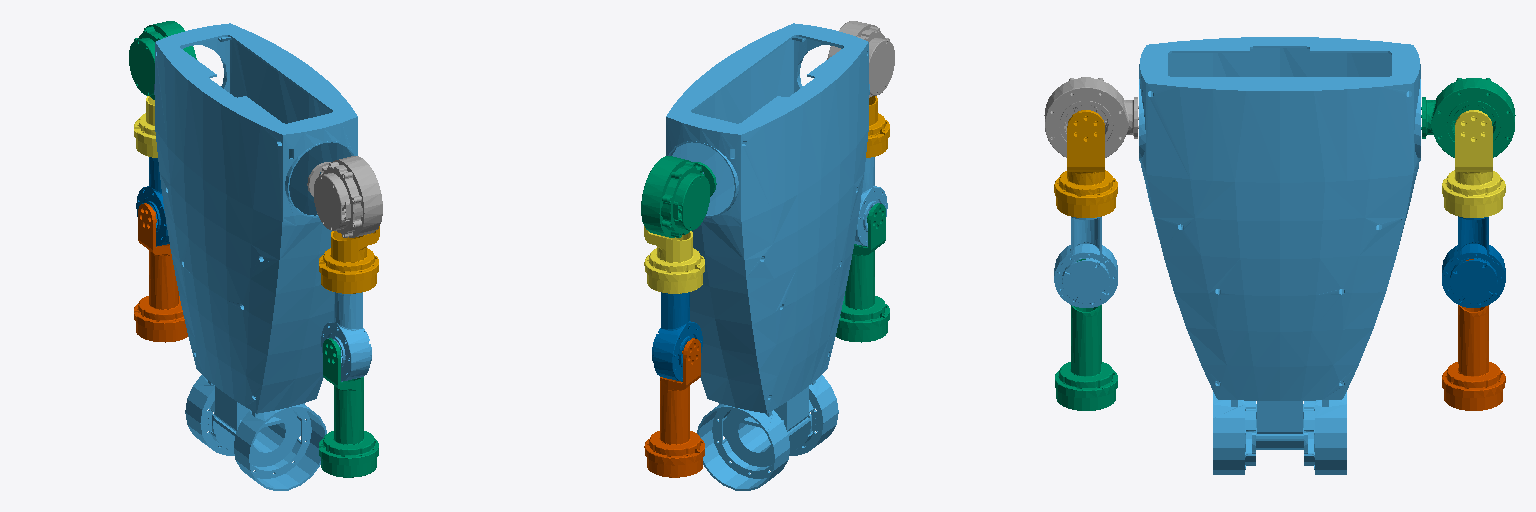
robot.urdf — robot:
<?xml version='1.0' encoding='utf-8'?>
<robot name="robot">
  <link name="base">
    <inertial>
      <origin rpy="0.0 0.0 0.0" xyz="0.0 0.0 0.0" />
      <mass value="0.001" />
      <inertia ixx="0.0001" ixy="0.0" ixz="0.0" iyy="0.0001" iyz="0.0" izz="0.0001" />
      </inertial>
    </link>
  <joint name="floating_base" type="fixed">
    <origin rpy="0 0 0" xyz="0 0 0.0" />
    <parent link="base" />
    <child link="trunk" />
    </joint>
  <link name="trunk">
    <inertial>
      <origin rpy="0.0 0.0 0.0" xyz="-0.00051930492 0.00030343937 0.21140495" />
      <mass value="13.05315" />
      <inertia ixx="0.56635021" ixy="-5.2717245e-05" ixz="-0.00020117771" iyy="0.462714" iyz="0.00062003391" izz="0.13193241" />
      </inertial>
    <visual>
      <origin rpy="0.0 0.0 0.0" xyz="0.0 0.0 0.0" />
      <geometry>
        <mesh filename="meshes/trunk.stl" scale="1e-3 1e-3 1e-3" />
        </geometry>
      </visual>
    <collision>
      <origin rpy="0.0 0.0 0.0" xyz="0.0 0.0 0.0" />
      <geometry>
        <mesh filename="meshes/trunk.stl" scale="1e-3 1e-3 1e-3" />
        </geometry>
      </collision>
    </link>
  <joint name="L_shoulder_y" type="revolute">
    <origin rpy="0 0 0" xyz="0 0.255 0.45" />
    <parent link="trunk" />
    <child link="L_clav" />
    <axis xyz="0.0 1.0 0.0" />
    <limit effort="60" lower="-3.1416" upper="3.1416" velocity="0" />
    <dynamics damping="0" friction="0" />
    </joint>
  <link name="L_clav">
    <inertial>
      <origin rpy="0.0 0.0 0.0" xyz="0.0012122056 -0.0015095858 -9.3677479e-05" />
      <mass value="1.1246895" />
      <inertia ixx="0.0017070766" ixy="-2.3820729e-06" ixz="-6.7619904e-06" iyy="0.0010595629" iyz="-3.2352008e-07" izz="0.001122517" />
      </inertial>
    <visual>
      <origin rpy="-3.1415926 0 0" xyz="0 0 0" />
      <geometry>
        <mesh filename="meshes/clav.stl" scale="1e-3 1e-3 1e-3" />
        </geometry>
      </visual>
    <collision>
      <origin rpy="-3.1415926 0 0" xyz="0 0 0" />
      <geometry>
        <mesh filename="meshes/clav.stl" scale="1e-3 1e-3 1e-3" />
        </geometry>
      </collision>
    </link>
  <joint name="L_shoulder_x" type="revolute">
    <origin rpy="0.0 0.0 0.0" xyz="0 0 0" />
    <parent link="L_clav" />
    <child link="L_scapula" />
    <axis xyz="1.0 0.0 0.0" />
    <limit effort="60" lower="0" upper="3.1416" velocity="0" />
    <dynamics damping="0" friction="0" />
    </joint>
  <link name="L_scapula">
    <inertial>
      <origin rpy="0.0 0.0 0.0" xyz="0.0038106082 -0.0001642433 -0.095219061" />
      <mass value="0.65454544" />
      <inertia ixx="0.0011234347" ixy="-4.6391796e-06" ixz="-0.00021802428" iyy="0.0011878253" iyz="-1.8375484e-06" izz="0.00058824357" />
      </inertial>
    <visual>
      <geometry>
        <mesh filename="meshes/scap.stl" scale="1e-3 1e-3 1e-3" />
        </geometry>
      </visual>
    <collision>
      <geometry>
        <mesh filename="meshes/scap.stl" scale="1e-3 1e-3 1e-3" />
        </geometry>
      </collision>
    </link>
  <joint name="L_shoulder_z" type="revolute">
    <origin rpy="0.0 0.0 0.0" xyz="0 0 0" />
    <parent link="L_scapula" />
    <child link="L_uarm" />
    <axis xyz="0.0 0.0 1.0" />
    <limit effort="17" lower="-3.14" upper="3.14" velocity="0" />
    <dynamics damping="0" friction="0" />
    </joint>
  <link name="L_uarm">
    <inertial>
      <origin rpy="0.0 0.0 0.0" xyz="-0.0039088302 0.00017072539 -0.22223086" />
      <mass value="0.58244405" />
      <inertia ixx="0.00083861306" ixy="-9.1542325e-08" ixz="0" iyy="0.00067605212" iyz="-2.7860944e-06" izz="0.0003615168" />
      </inertial>
    <visual>
      <geometry>
        <mesh filename="meshes/uarm.stl" scale="1e-3 1e-3 1e-3" />
        </geometry>
      </visual>
    <collision>
      <geometry>
        <mesh filename="meshes/uarm.stl" scale="1e-3 1e-3 1e-3" />
        </geometry>
      </collision>
    </link>
  <joint name="L_elbow_x" type="revolute">
    <origin rpy="0.0 0.0 0.0" xyz="0 0 -0.23" />
    <parent link="L_uarm" />
    <child link="L_farm" />
    <axis xyz="1.0 0 0.0" />
    <limit effort="17" lower="-1.9199" upper="1.9199" velocity="0" />
    <dynamics damping="0" friction="0" />
    </joint>
  <link name="L_farm">
    <inertial>
      <origin rpy="0.0 0.0 0.0" xyz="-0.0024082691 0.00017091831 -0.14069589" />
      <mass value="0.66002606" />
      <inertia ixx="0.0016198862" ixy="3.700055e-06" ixz="0.00013980511" iyy="0.0016516658" iyz="2.349341e-06" izz="0.00054139396" />
      </inertial>
    <visual>
      <geometry>
        <mesh filename="meshes/farm.stl" scale="1e-3 1e-3 1e-3" />
        </geometry>
      </visual>
    <collision>
      <geometry>
        <mesh filename="meshes/farm.stl" scale="1e-3 1e-3 1e-3" />
        </geometry>
      </collision>
    </link>
    <link name="left_end_effector_link"/>
    <joint name="left_end_effector_joint" type="fixed">
      <parent link="L_farm"/>
      <child link="left_end_effector_link"/>
      <!-- <origin xyz="-.05 0 -.1" rpy="0 0 0"/>  Adjust these values to position it at the tip -->
      <origin xyz="-0.05 0 -0.1" rpy="0 0 0"/>
    </joint>
  <joint name="R_shoulder_y" type="revolute">
    <origin rpy="0 0 0" xyz="0 -0.255 0.45" />
    <parent link="trunk" />
    <child link="R_clav" />
    <axis xyz="0.0 1.0 0.0" />
    <limit effort="60" lower="-3.1416" upper="3.1416" velocity="0" />
    <dynamics damping="0" friction="0" />
    </joint>
  <link name="R_clav">
    <inertial>
      <origin rpy="0.0 0.0 0.0" xyz="0.0012122056 0.0015095858 -9.3677479e-05" />
      <mass value="1.1246895" />
      <inertia ixx="0.0017070766" ixy="2.3820729e-06" ixz="-6.7619904e-06" iyy="0.0010595629" iyz="3.2352008e-07" izz="0.001122517" />
      </inertial>
    <visual>
      <origin rpy="0 0 0" xyz="0 0 0" />
      <geometry>
        <mesh filename="meshes/clav.stl" scale="1e-3 1e-3 1e-3" />
        </geometry>
      </visual>
    <collision>
      <origin rpy="0 0 0" xyz="0 0 0" />
      <geometry>
        <mesh filename="meshes/clav.stl" scale="1e-3 1e-3 1e-3" />
        </geometry>
      </collision>
    </link>
  <joint name="R_shoulder_x" type="revolute">
    <origin rpy="0.0 0.0 0.0" xyz="0 0 0" />
    <parent link="R_clav" />
    <child link="R_scapula" />
    <axis xyz="1.0 0.0 0.0" />
    <limit effort="60" lower="-3.1416" upper="0" velocity="0" />
    <dynamics damping="0" friction="0" />
    </joint>
  <link name="R_scapula">
    <inertial>
      <origin rpy="0.0 0.0 0.0" xyz="0.0038106082 -0.0001642433 -0.095219061" />
      <mass value="0.65454544" />
      <inertia ixx="0.0011234347" ixy="-4.6391796e-06" ixz="-0.00021802428" iyy="0.0011878253" iyz="-1.8375484e-06" izz="0.00058824357" />
      </inertial>
    <visual>
      <geometry>
        <mesh filename="meshes/scap.stl" scale="1e-3 1e-3 1e-3" />
        </geometry>
      </visual>
    <collision>
      <geometry>
        <mesh filename="meshes/scap.stl" scale="1e-3 1e-3 1e-3" />
        </geometry>
      </collision>
    </link>
  <joint name="R_shoulder_z" type="revolute">
    <origin rpy="0.0 0.0 0.0" xyz="0 0 0" />
    <parent link="R_scapula" />
    <child link="R_uarm" />
    <axis xyz="0.0 0.0 1.0" />
    <limit effort="17" lower="-3.14" upper="3.14" velocity="0" />
    <dynamics damping="0" friction="0" />
    </joint>
  <link name="R_uarm">
    <inertial>
      <origin rpy="0.0 0.0 0.0" xyz="-0.0039088302 -0.00017072539 -0.22223086" />
      <mass value="0.58244405" />
      <inertia ixx="0.00083861306" ixy="9.1542325e-08" ixz="0" iyy="0.00067605212" iyz="2.7860944e-06" izz="0.0003615168" />
      </inertial>
    <visual>
      <geometry>
        <mesh filename="meshes/uarm.stl" scale="1e-3 1e-3 1e-3" />
        </geometry>
      </visual>
    <collision>
      <geometry>
        <mesh filename="meshes/uarm.stl" scale="1e-3 1e-3 1e-3" />
        </geometry>
      </collision>
    </link>
  <joint name="R_elbow_x" type="revolute">
    <origin rpy="0.0 0.0 0.0" xyz="0 0 -0.23" />
    <parent link="R_uarm" />
    <child link="R_farm" />
    <axis xyz="1.0 0 0.0" />
    <limit effort="17" lower="-1.9199" upper="1.9199" velocity="0" />
    <dynamics damping="0" friction="0" />
    </joint>
  <link name="R_farm">
    <inertial>
      <origin rpy="0.0 0.0 0.0" xyz="-0.0024082691 -0.00017091831 -0.14069589" />
      <mass value="0.66002606" />
      <inertia ixx="0.0016198862" ixy="-3.700055e-06" ixz="0.00013980511" iyy="0.0016516658" iyz="-2.349341e-06" izz="0.00054139396" />
      </inertial>
    <visual>
      <geometry>
        <mesh filename="meshes/farm.stl" scale="1e-3 1e-3 1e-3" />
        </geometry>
      </visual>
    <collision>
      <geometry>
        <mesh filename="meshes/farm.stl" scale="1e-3 1e-3 1e-3" />
        </geometry>
      </collision>
    </link>
    <link name="right_end_effector_link"/>
    <joint name="right_end_effector_joint" type="fixed">
      <parent link="R_farm"/>
      <child link="right_end_effector_link"/>
      <!-- <origin xyz="-.05 0 -.1" rpy="0 0 0"/>  Adjust these values to position it at the tip -->
      <origin xyz="-0.05 0 -0.1" rpy="0 0 0"/>
    </joint>
  </robot>

--- What the picture shows (computed from the rendered views, not written in the file) ---
The picture shows the robot from 3 angles, left to right: view 1: azimuth 30°, elevation 25°; view 2: azimuth 150°, elevation 25°; view 3: azimuth 270°, elevation 25°; orthographic projection.
Model robot with 12 links and 11 joints (8 revolute, 3 fixed), rooted at base, posed every joint at zero.
Links seen in each view (by area): view 1: trunk, R_clav, R_farm, L_farm, R_scapula, R_uarm, L_clav, L_uarm, L_scapula; view 2: trunk, L_clav, L_farm, R_farm, L_scapula, L_uarm, R_clav, R_uarm, R_scapula; view 3: trunk, R_scapula, L_scapula, R_farm, L_farm, R_clav, L_clav, L_uarm, R_uarm.
Link boxes in pixels (left/top/right/bottom): trunk: left=154, top=23, right=357, bottom=490; R_clav: left=307, top=156, right=382, bottom=237; R_farm: left=319, top=338, right=378, bottom=477; L_farm: left=134, top=203, right=187, bottom=342; R_scapula: left=319, top=226, right=379, bottom=293; R_uarm: left=321, top=292, right=371, bottom=381; L_clav: left=129, top=21, right=196, bottom=99; L_uarm: left=136, top=157, right=169, bottom=246; L_scapula: left=134, top=96, right=157, bottom=157; trunk: left=666, top=23, right=869, bottom=490; L_clav: left=641, top=156, right=716, bottom=237; L_farm: left=644, top=338, right=704, bottom=477; R_farm: left=836, top=203, right=889, bottom=342; L_scapula: left=644, top=226, right=704, bottom=293; L_uarm: left=652, top=292, right=702, bottom=381; R_clav: left=827, top=21, right=894, bottom=97; R_uarm: left=854, top=157, right=887, bottom=246; R_scapula: left=866, top=96, right=889, bottom=157; trunk: left=1139, top=37, right=1420, bottom=474; R_scapula: left=1054, top=110, right=1117, bottom=217; L_scapula: left=1442, top=110, right=1505, bottom=217; R_farm: left=1055, top=259, right=1117, bottom=410; L_farm: left=1442, top=259, right=1505, bottom=410; R_clav: left=1044, top=77, right=1138, bottom=157; L_clav: left=1421, top=78, right=1515, bottom=157; L_uarm: left=1442, top=216, right=1505, bottom=307; R_uarm: left=1054, top=217, right=1117, bottom=307.
Bounding box of the posed robot: 0.17 × 0.62 × 0.5911 m (x, y, z).
9 mesh visuals loaded from 5 distinct referenced files (5 binary STL).